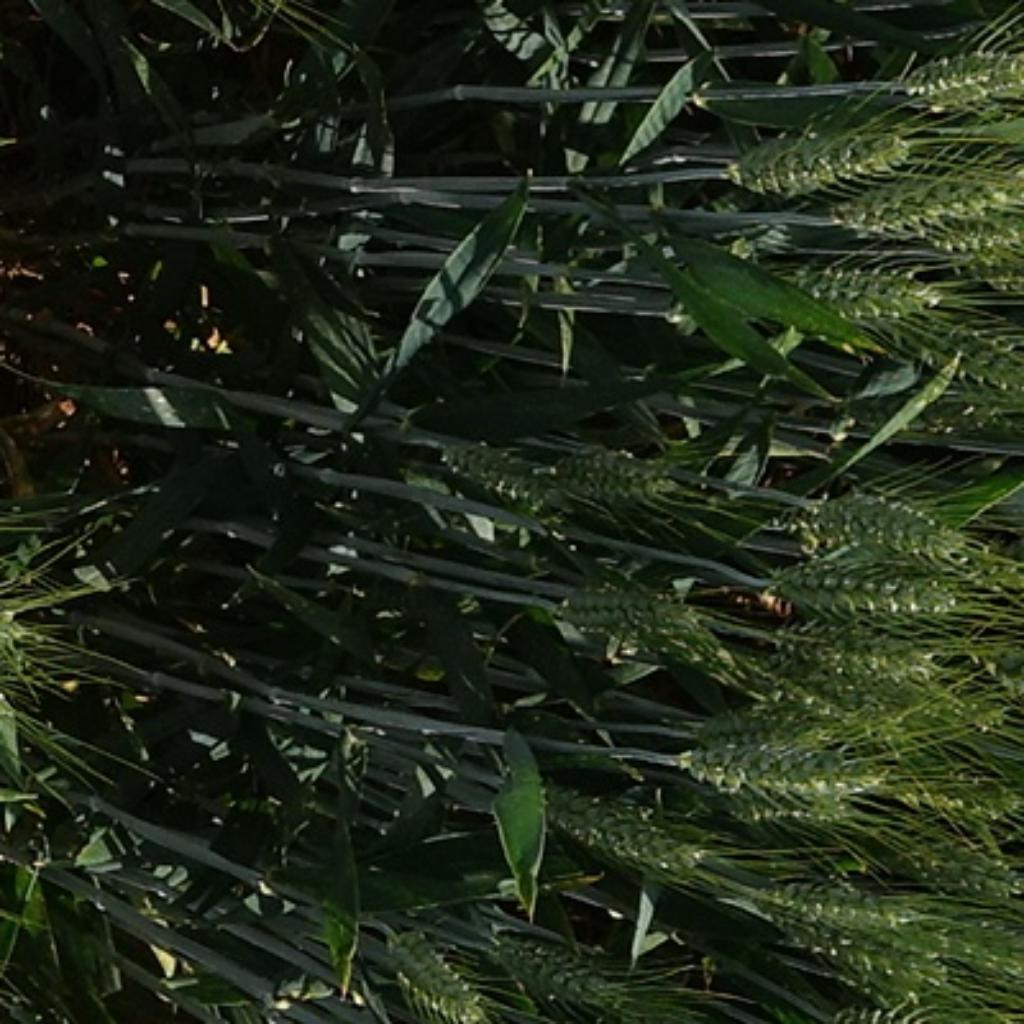0-0: (757, 535, 983, 632), (709, 97, 913, 202), (529, 778, 709, 888), (545, 560, 727, 663), (750, 875, 944, 970), (680, 735, 868, 829), (842, 161, 1018, 245), (805, 476, 979, 559), (775, 250, 942, 335), (483, 921, 632, 1013), (762, 614, 949, 686), (2, 546, 78, 720), (875, 302, 1024, 387), (366, 924, 491, 1024), (830, 387, 1021, 445), (535, 440, 683, 512), (427, 427, 555, 509), (754, 671, 908, 735), (888, 750, 1018, 824), (890, 829, 1024, 898), (903, 46, 1024, 122), (924, 916, 1024, 984), (904, 687, 1021, 743), (941, 230, 1024, 305), (826, 997, 987, 1024)
